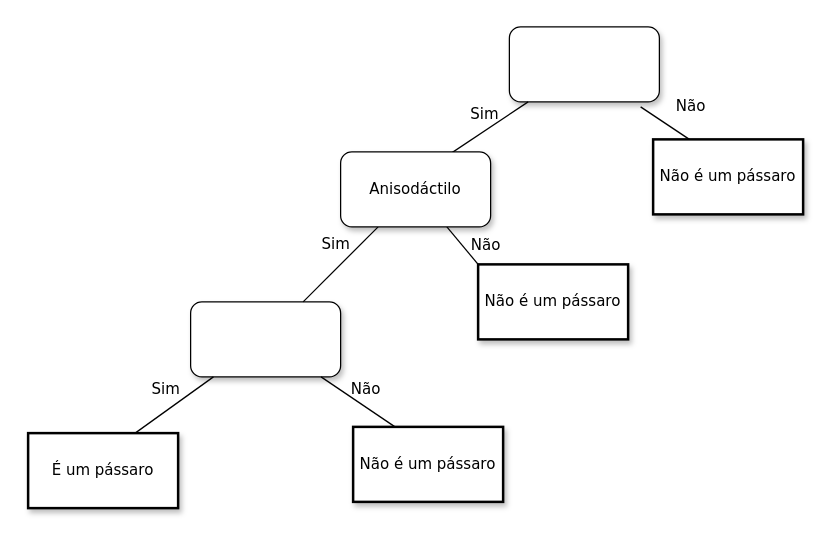
The diagram is 833 pixels wide and 540 high, and some of its shapes have lost their labels. Each missing label, with the centre of its shape:
"Ave" belongs at pixel 585 66.
"Canto" belongs at pixel 266 341.
